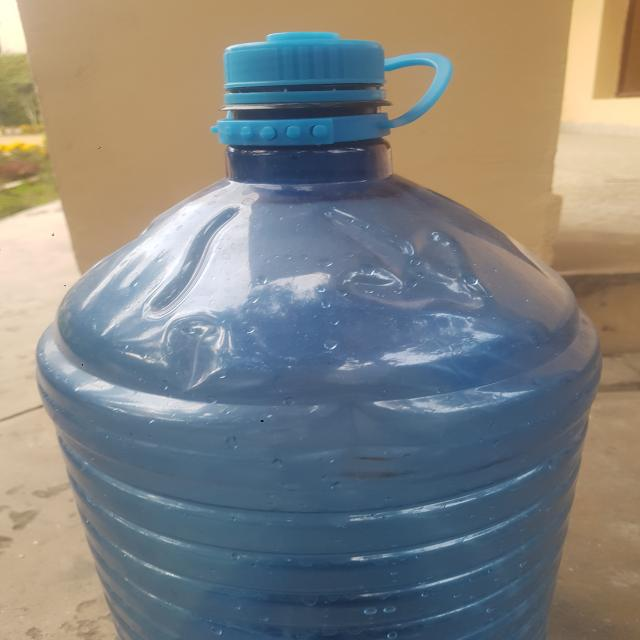general: (34, 31, 603, 638)
